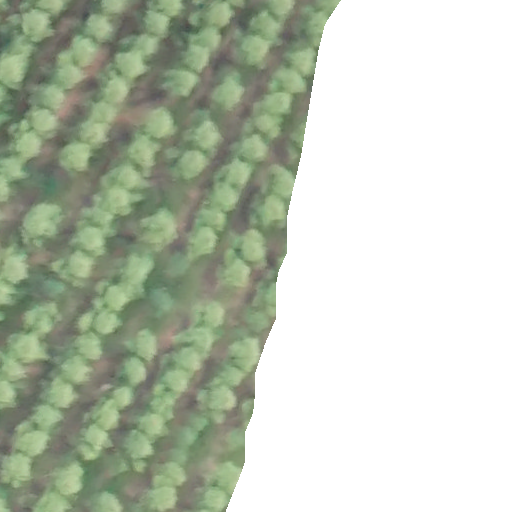eucalipto: (19, 204, 65, 244), (139, 210, 179, 252), (209, 69, 245, 110), (9, 331, 49, 365), (19, 9, 54, 44), (233, 35, 269, 69), (143, 107, 177, 142), (44, 377, 79, 411), (59, 141, 92, 177), (130, 134, 162, 171), (236, 229, 267, 267), (109, 162, 149, 191), (123, 251, 157, 285), (172, 328, 214, 355), (82, 11, 116, 44), (1, 455, 34, 489), (15, 425, 50, 457), (197, 2, 235, 31), (98, 187, 137, 215), (62, 251, 94, 285), (217, 255, 251, 287), (206, 462, 240, 494), (227, 338, 258, 373), (24, 305, 60, 335), (186, 227, 219, 259), (121, 429, 154, 461), (79, 206, 113, 237), (28, 109, 61, 140), (307, 13, 337, 47), (53, 463, 83, 497), (270, 68, 307, 95), (167, 67, 199, 98), (55, 58, 85, 91), (73, 330, 103, 363), (284, 45, 318, 74), (175, 151, 210, 179), (147, 288, 177, 320), (33, 82, 66, 111), (116, 52, 149, 81), (1, 249, 29, 283), (257, 196, 287, 227), (249, 13, 281, 42), (194, 121, 222, 154), (72, 229, 106, 256), (30, 404, 64, 431), (198, 204, 228, 234), (189, 302, 225, 327), (211, 181, 240, 212), (132, 329, 161, 360), (237, 136, 269, 164), (205, 385, 237, 413), (70, 36, 97, 69), (145, 485, 178, 512), (167, 347, 202, 372), (79, 118, 110, 146), (268, 165, 296, 196), (1, 56, 28, 88), (91, 311, 124, 337), (134, 410, 167, 436), (120, 357, 149, 386), (14, 131, 43, 159), (102, 284, 130, 313), (224, 161, 253, 189), (241, 305, 270, 333), (159, 368, 189, 395), (93, 400, 120, 430), (263, 90, 294, 116), (157, 460, 188, 486), (180, 46, 210, 72), (254, 114, 284, 140), (190, 27, 222, 51), (63, 358, 91, 385), (83, 422, 110, 450), (89, 100, 119, 125), (165, 254, 192, 281), (103, 78, 130, 104), (88, 492, 122, 512), (145, 12, 171, 38), (1, 357, 27, 383), (1, 158, 29, 182), (201, 488, 229, 512), (33, 495, 69, 512), (134, 32, 157, 58), (40, 277, 67, 299), (36, 1, 70, 17), (162, 447, 189, 467), (221, 364, 244, 387), (175, 425, 199, 447), (111, 385, 132, 410), (265, 1, 294, 19), (11, 36, 34, 58), (101, 1, 131, 17), (188, 411, 210, 432), (78, 442, 101, 462), (155, 1, 182, 17), (1, 385, 18, 408)
